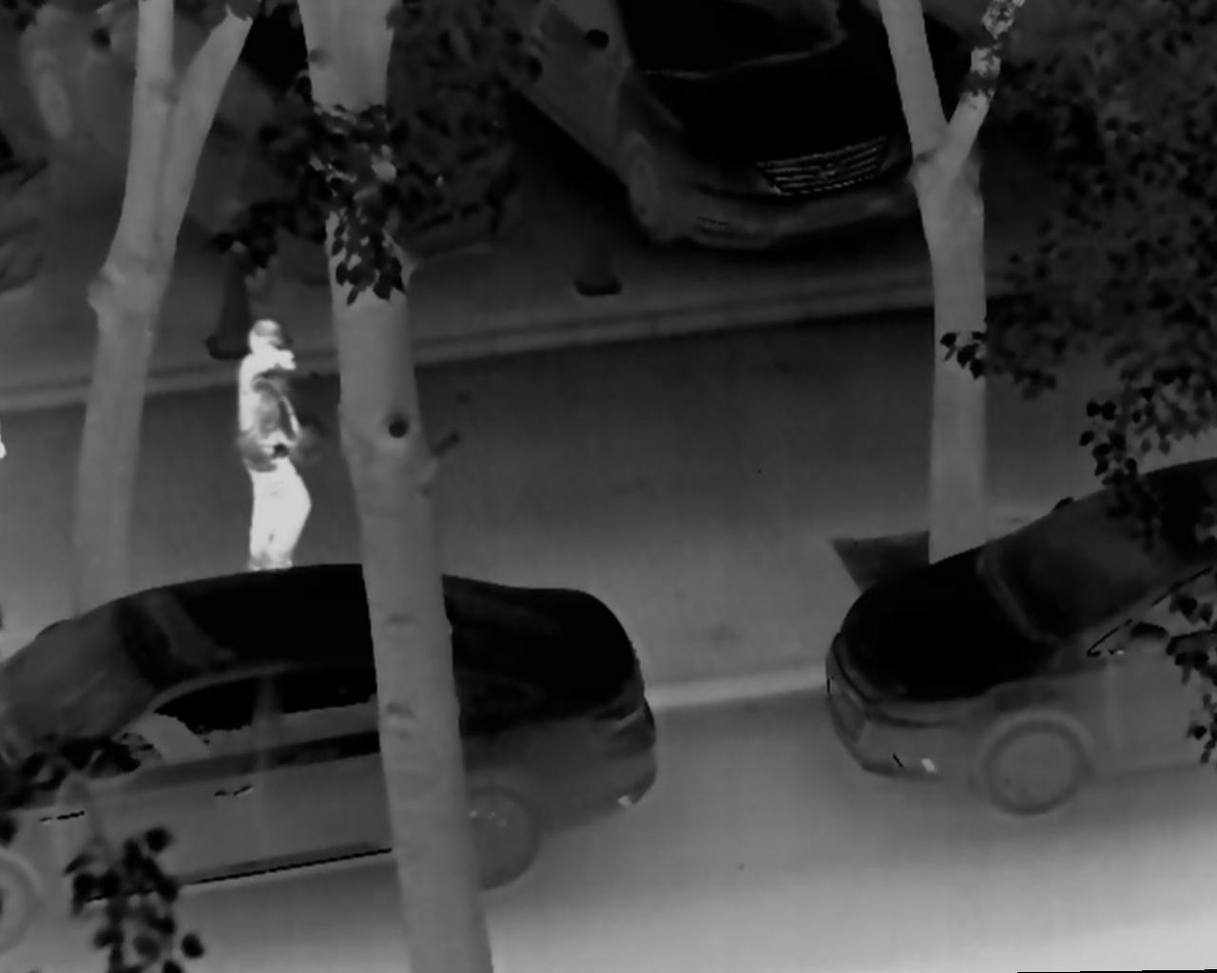person: (223, 321, 312, 577)
